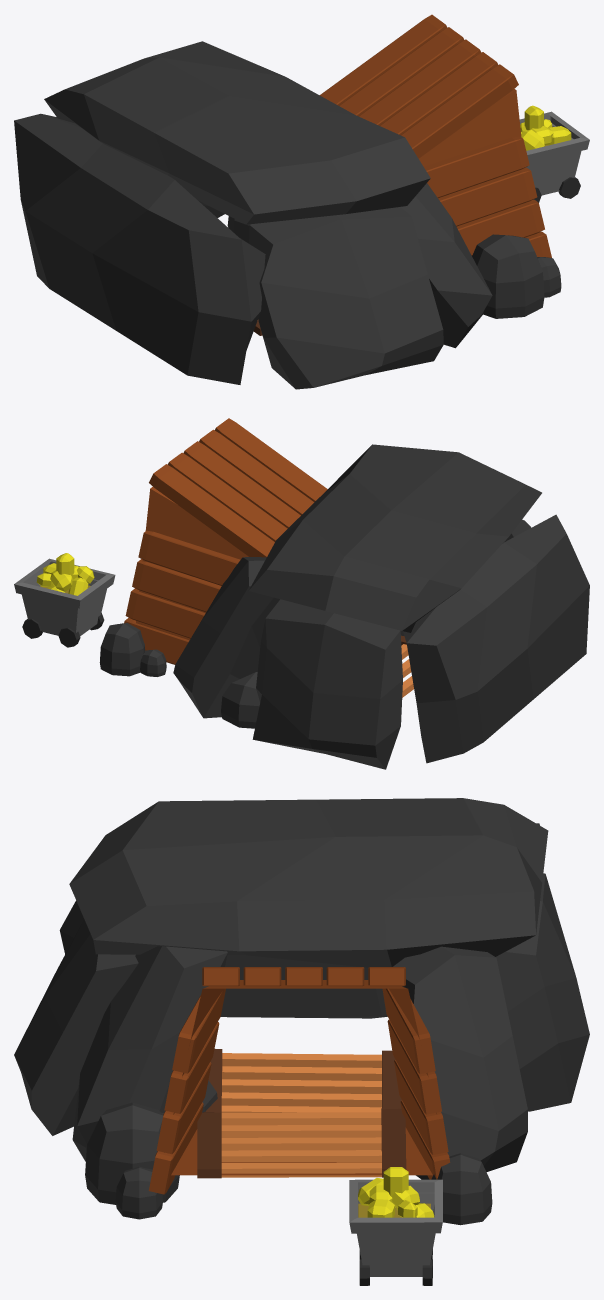
File: mining cave rev.fbx
3 renders of one model, top to bottom at view 1: azimuth 30°, elevation 25°; view 2: azimuth 150°, elevation 25°; view 3: azimuth 270°, elevation 25°, orthographic. The views are drawn at different scales.
Parts seen in each view (by area): view 1: Cave, Cube.003, Cube.002, Cube.018, Cube.001, Cube.005, Cube.011, Cube.010; view 2: Cave, Cube.003, Cube.009, Cube.005, Cube.001, Cube.014, Cube.013, Cube.011, Cylinder, Cube.015; view 3: Cave, Cube.006, Cube.004, Cube.002, Cube.009, Cube.005, Cube.018, Cube.003, Cube.001, Cube.014, Cube.011, Cube.010.
Boxes of the visible parts, x1,y1,x2,y2 form: Cave: (14,41,492,389); Cube.003: (319,14,518,158); Cube.002: (424,136,551,257); Cube.018: (472,234,544,318); Cube.001: (419,89,531,237); Cube.005: (519,111,589,195); Cube.011: (520,105,571,150); Cube.010: (537,257,561,297); Cave: (173,444,589,769); Cube.003: (149,418,327,557); Cube.009: (124,530,240,664); Cube.005: (14,558,115,636); Cube.001: (136,487,248,640); Cube.014: (99,623,145,676); Cube.013: (221,672,259,728); Cube.011: (36,553,94,595); Cylinder: (22,613,104,647); Cube.015: (140,649,166,676); Cave: (14,798,589,1179); Cube.006: (197,1108,406,1178); Cube.004: (203,1049,401,1112); Cube.002: (148,988,225,1194); Cube.009: (382,988,450,1179); Cube.005: (349,1179,442,1276); Cube.018: (85,1102,179,1204); Cube.003: (202,967,405,986); Cube.001: (171,980,436,1175); Cube.014: (431,1153,492,1225); Cube.011: (358,1167,434,1217); Cube.010: (115,1166,162,1219).
Bounding box in the file's own units: 200 × 79.02 × 158.
